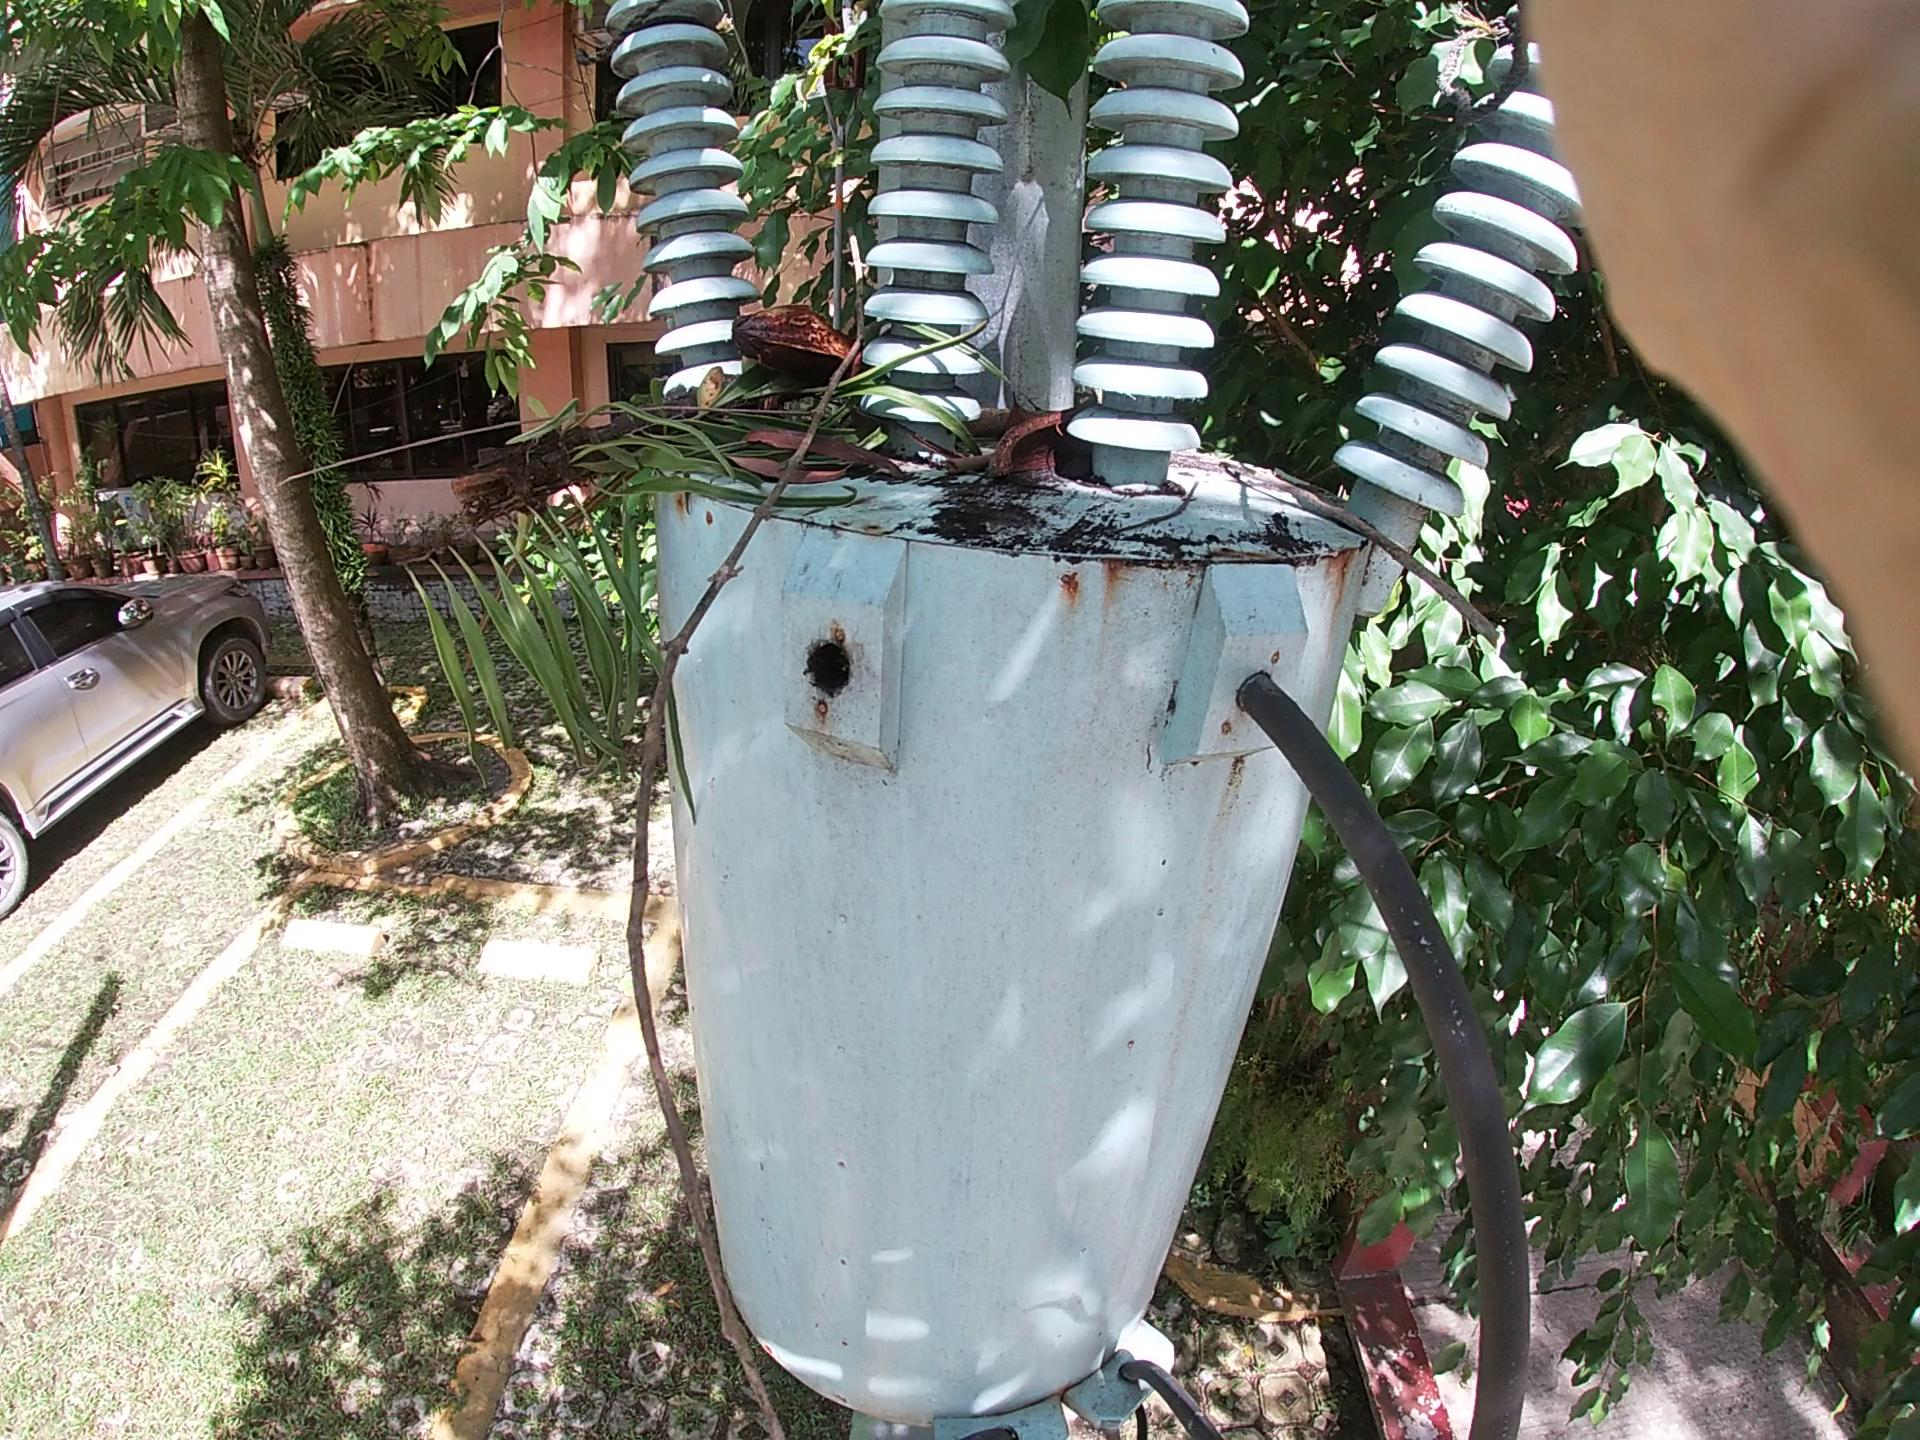branch with leaves: (392, 295, 1129, 753), (1191, 431, 1823, 675)
leaf: (679, 2, 1212, 241)
mahogany fruit: (697, 277, 869, 440), (963, 396, 1128, 514)
tree branch: (488, 147, 828, 1440), (915, 424, 1028, 549)
